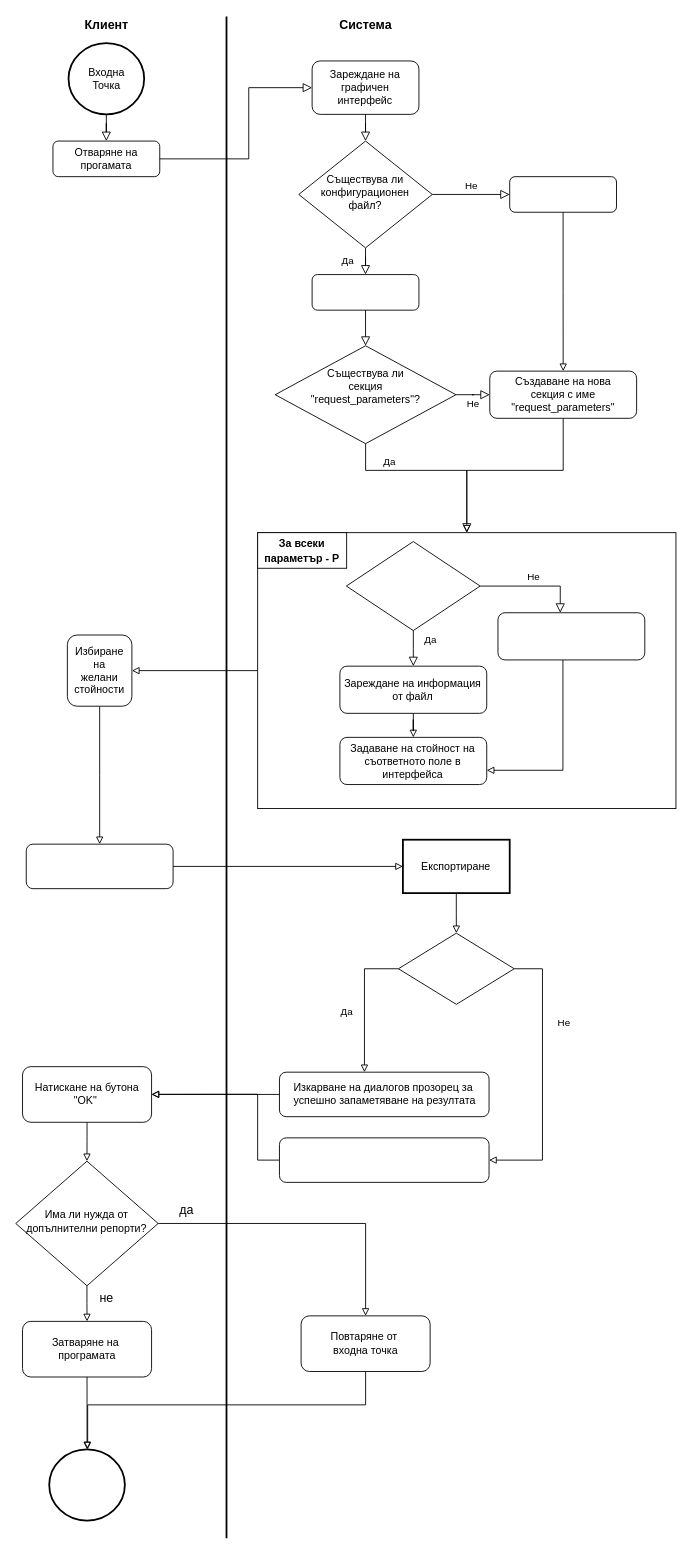
This 692x1554 diagram has some shape labels left out. The shapes that lost their labels are listed below. From the top down, each one's centre as x and y in pixels, then its label:
At (x=563, y=194): "Създаване на нов".
At (x=365, y=292): "Отваряне".
At (x=412, y=586): "Съществува ли P ?".
At (x=571, y=636): "Зареждане на стойност по подразбиране".
At (x=99, y=866): "Натискане на бутон Експорт".
At (x=456, y=968): "Успешно действие?".
At (x=384, y=1159): "Изкарване на диалогов прозорец за грешка".
At (x=86, y=1484): "Изходна Точка".
